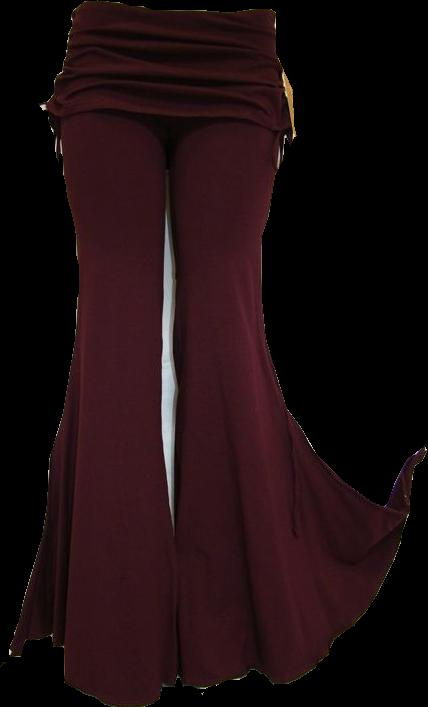Hemline: (170, 446, 427, 686), (7, 625, 175, 706), (47, 105, 295, 138)
Pantleg: (165, 9, 426, 687), (11, 2, 185, 705)
Waistline: (71, 3, 277, 19)
